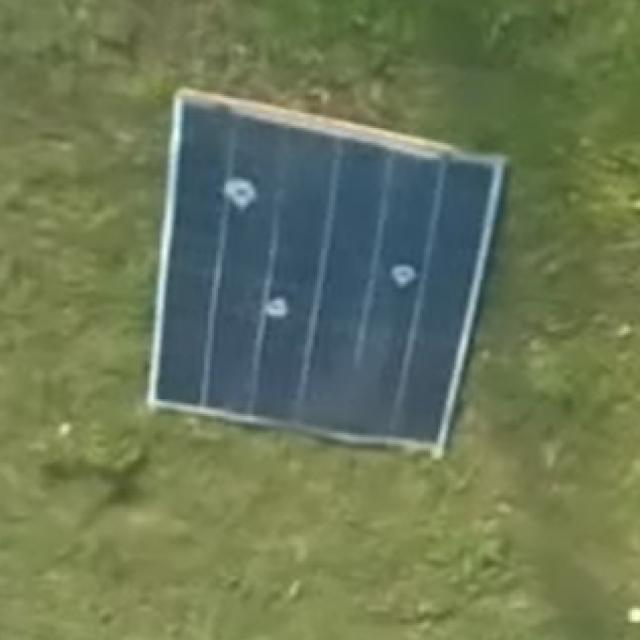Bird-drop: (226, 179, 259, 207), (259, 294, 292, 318), (388, 260, 416, 285)
